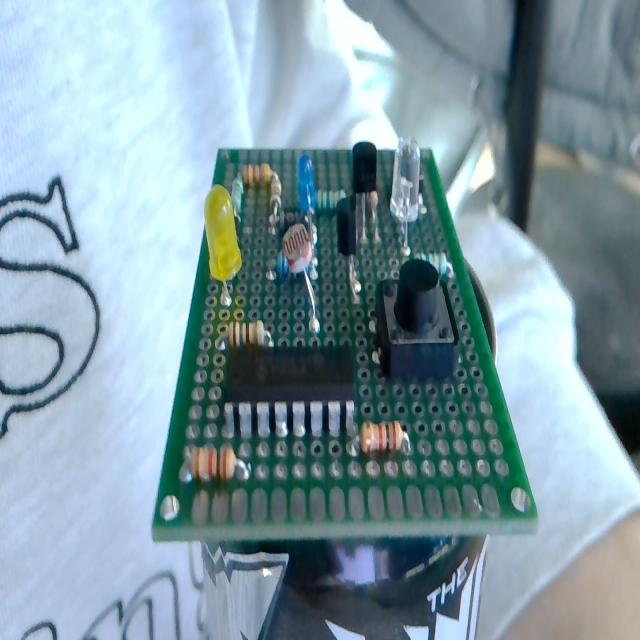IC: (218, 342, 359, 448)
cds: (282, 224, 330, 333)
led: (197, 182, 248, 310), (389, 139, 421, 255), (296, 154, 320, 268)
resistor: (181, 439, 250, 494), (361, 420, 404, 454), (226, 320, 271, 348), (244, 160, 278, 188), (268, 172, 282, 232), (317, 188, 346, 210), (231, 176, 244, 220)
switch: (376, 260, 456, 382)
transistor: (351, 140, 377, 249), (336, 195, 358, 305)
